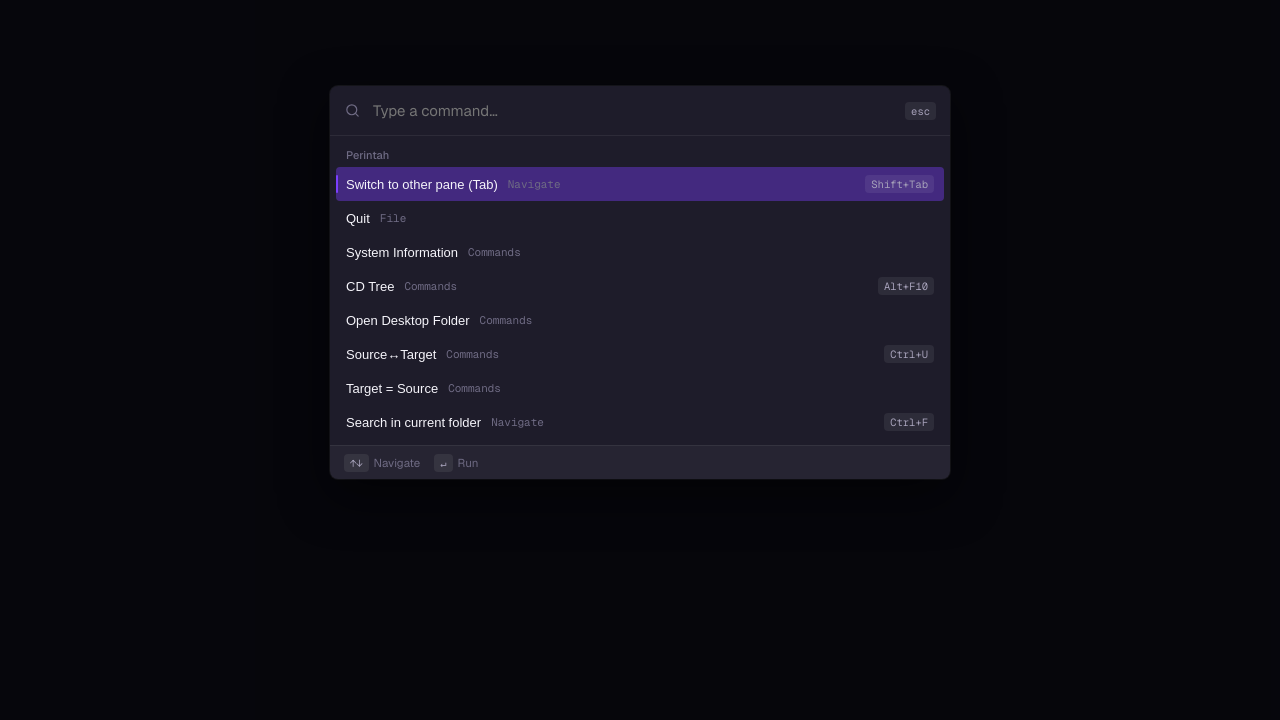
Test: match reasons (FER-254) › falls back to the match class label when the backend sends no reasons
Type "leg" into the dropdown at (633, 111), box [371,100,895,122]
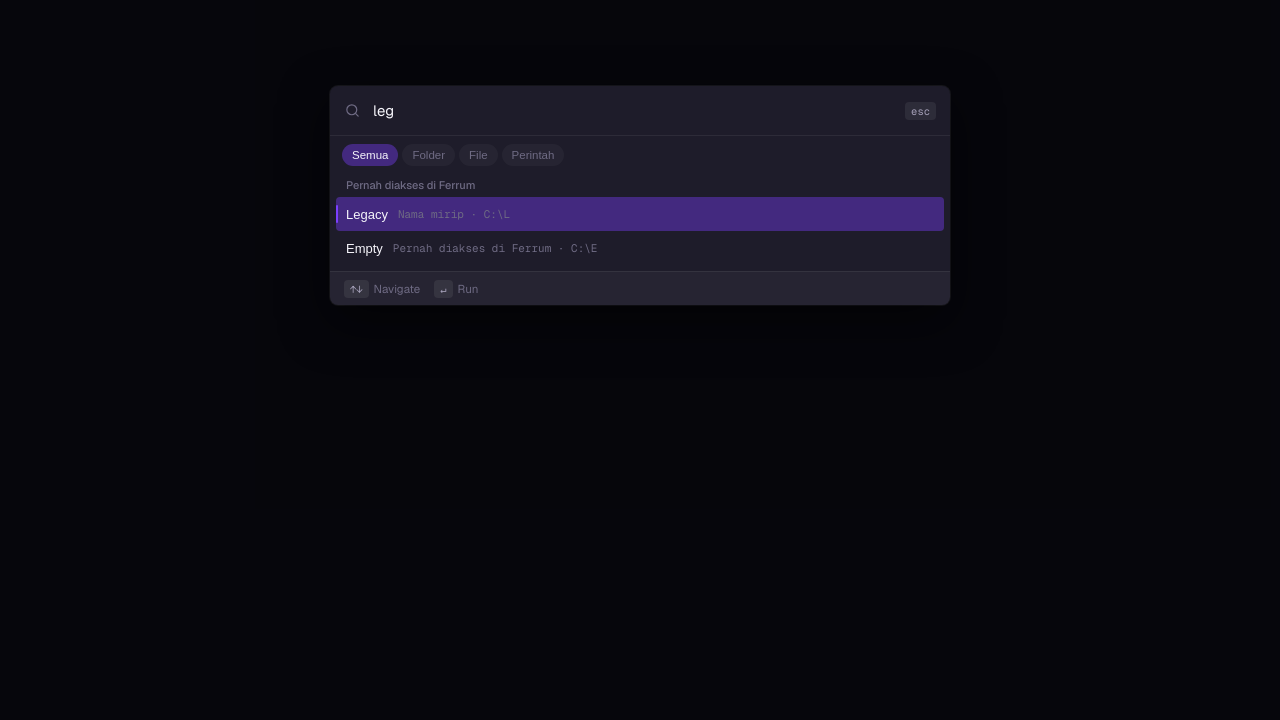
Now the option "Legacy Nama mirip · C:\\L" is shown, box [336,197,944,231]
Now the text with class "sub" shows "Nama mirip", box [398,207,510,221]
Now the text with class "sub" shows "Pernah diakses di Ferrum", box [393,241,597,255]
